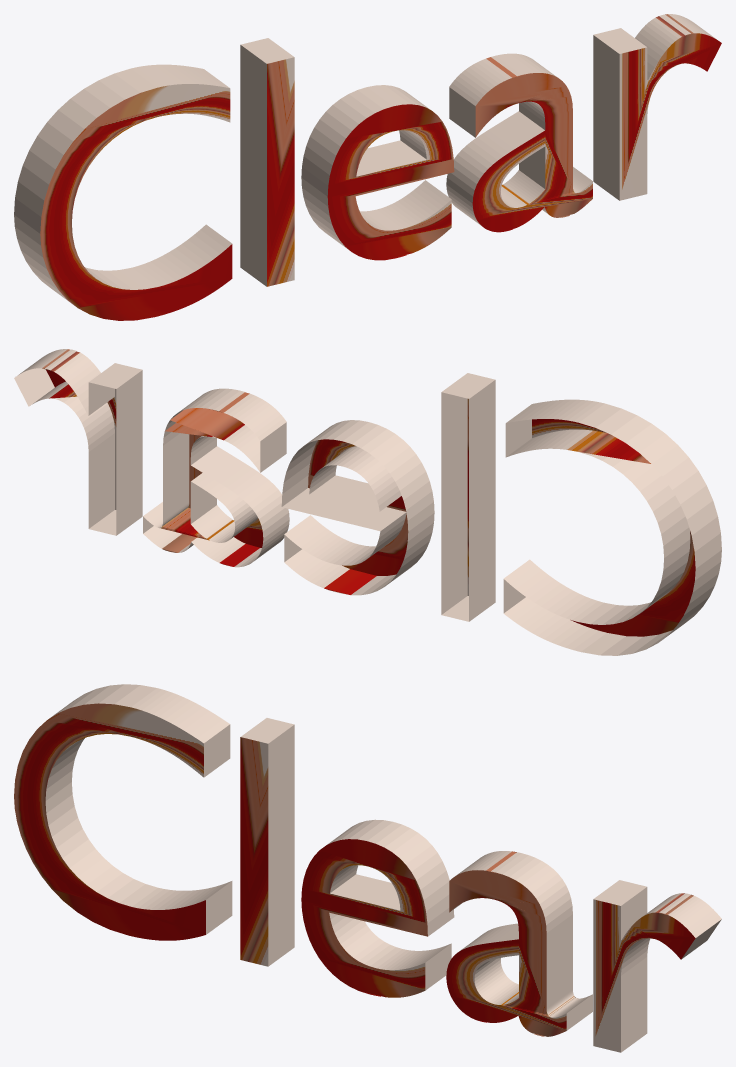
Rendered from Clear.obj.
3 views of the same model, one above another, from view 1: azimuth 30°, elevation 25°; view 2: azimuth 150°, elevation 25°; view 3: azimuth 330°, elevation 25° (orthographic).
Parts seen in each view (by area): view 1: テキスト; view 2: テキスト; view 3: テキスト.
Boxes of the visible parts, x1=… form: テキスト: x1=14, y1=14, x2=721, y2=320; テキスト: x1=14, y1=349, x2=721, y2=655; テキスト: x1=14, y1=684, x2=721, y2=1052.
Bounding box in the file's own units: 7.34 × 2.35 × 0.4914.
1 material, 1 textured.
